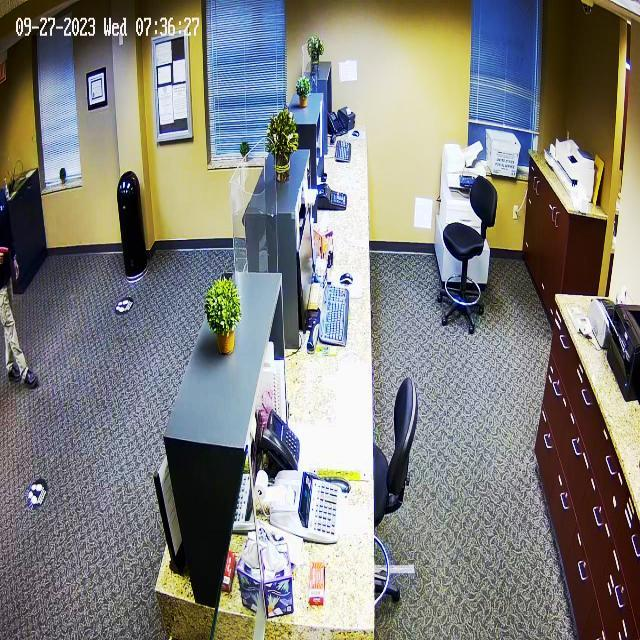Gun: (0, 230, 19, 267)
